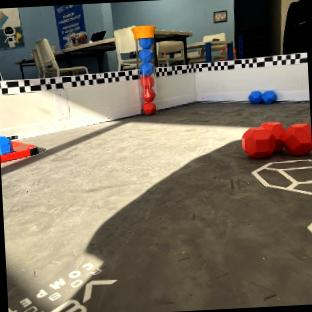V5_BLUE: (136, 37, 153, 74), (248, 90, 276, 103)
V5_RED: (241, 121, 312, 159), (140, 72, 154, 101), (142, 100, 155, 114)
